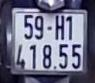1: (29, 44, 39, 70), (66, 15, 74, 41)
4: (16, 43, 28, 70)
5: (23, 14, 34, 40), (71, 43, 81, 69), (59, 44, 68, 69)
8: (42, 42, 53, 70)
9: (34, 16, 44, 40)
H: (54, 14, 65, 41)
